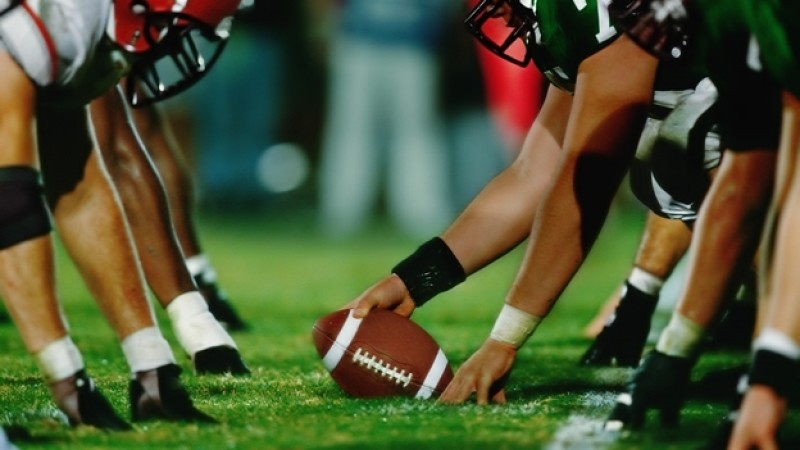futbol americano: (312, 308, 454, 398)
